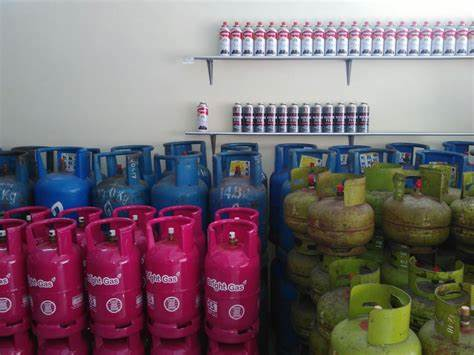blue_gas: (210, 153, 268, 236), (35, 146, 89, 222), (152, 152, 208, 221), (94, 151, 147, 223), (274, 146, 327, 190), (1, 148, 28, 214), (386, 141, 431, 167), (331, 145, 373, 171), (444, 140, 474, 169)
bright_gas: (28, 218, 84, 335), (86, 219, 141, 337), (146, 218, 200, 334), (205, 221, 257, 340), (1, 218, 30, 333)
gas_ijo: (329, 285, 424, 355), (382, 170, 449, 250), (311, 173, 375, 252), (407, 255, 471, 318), (321, 259, 383, 324), (419, 286, 474, 355), (285, 168, 332, 235), (287, 241, 320, 298), (288, 295, 322, 343), (453, 173, 474, 248)
